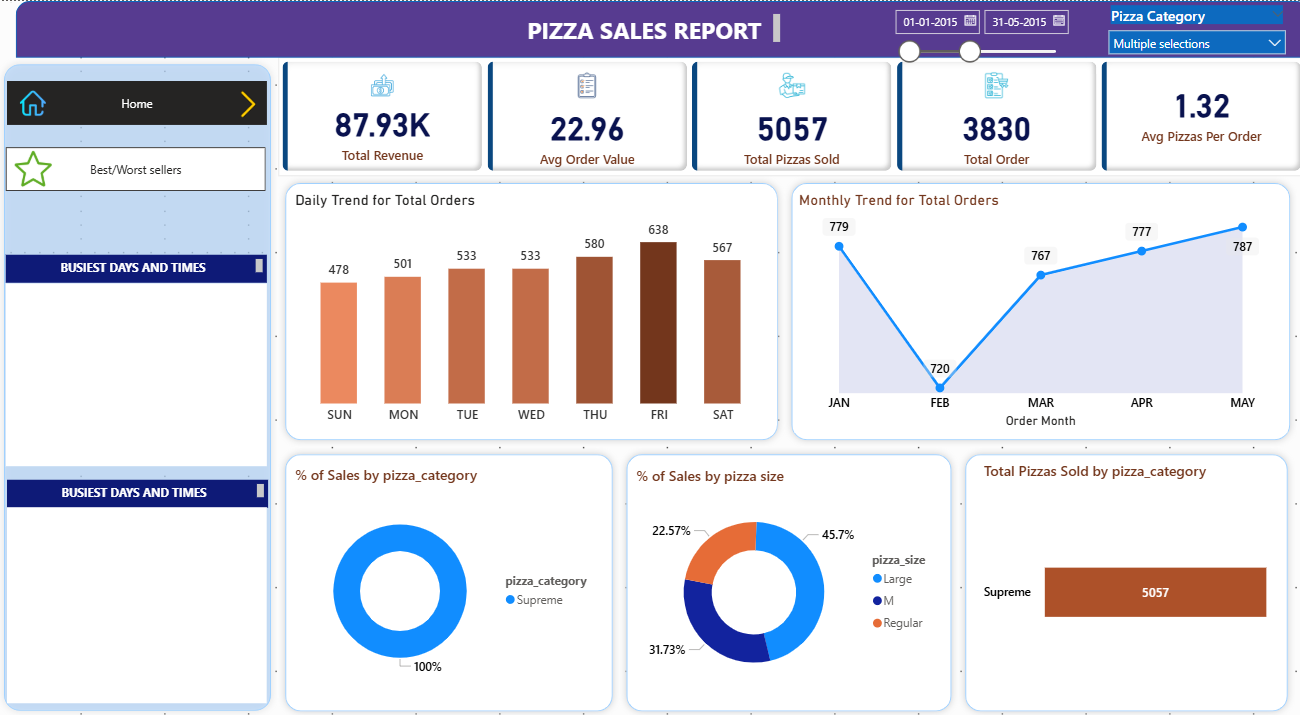

The page's visual inventory and layout, read from the dashboard file:
{"tool":"powerbi","page":{"name":"Home","canvas":[1500,820],"ordinal":0},"visuals":[{"type":"shape","box":[0,64.8,321.1,754.9],"z":0},{"type":"cardVisual","fields":{"Data":["pizza_sales.Total Revenue","pizza_sales.Avg Order Value","pizza_sales.Total Pizzas Sold","pizza_sales.Total Order","pizza_sales.Avg Pizzas Per Order"]},"box":[321.1,64.8,1178.9,135.2],"z":1000},{"type":"shape","box":[21.1,0,1478.9,64.8],"z":2000},{"type":"textbox","box":[601.4,9.9,298.6,43.7],"z":3000},{"type":"shape","box":[321.1,200,578.9,309.9],"z":4000},{"type":"columnChart","title":"Daily Trend for Total Orders","fields":{"Category":["pizza_sales.Order day"],"Y":["pizza_sales.Total Order"]},"box":[335.2,216.9,550.7,276.1],"z":5000},{"type":"shape","box":[900,200,585.9,309.9],"z":6000},{"type":"areaChart","title":"Monthly Trend for Total Orders","fields":{"Category":["pizza_sales.Order Month"],"Y":["pizza_sales.Total Order"]},"box":[911.3,216.9,563.4,276.1],"z":7000},{"type":"shape","box":[321.1,509.9,390.1,309.9],"z":8000},{"type":"shape","box":[1098.6,509.9,384.5,309.9],"z":9000},{"type":"textbox","box":[9.9,290.1,298.6,32.4],"z":10000},{"type":"shape","box":[711.3,509.9,387.3,309.9],"z":11000},{"type":"donutChart","title":" % of Sales by pizza_category","fields":{"Category":["pizza_sales.pizza_category"],"Y":["pizza_sales.Total Revenue"]},"box":[335.2,529.6,359.2,267.6],"z":12000},{"type":"donutChart","title":" % of Sales by pizza size","fields":{"Y":["pizza_sales.Total Revenue"],"Category":["pizza_sales.pizza_size"]},"box":[725.4,531,359.2,267.6],"z":13000},{"type":"funnel","fields":{"Y":["pizza_sales.Total Pizzas Sold"],"Category":["pizza_sales.pizza_category"]},"box":[1122.5,525.4,338,277.5],"z":14000},{"type":"textbox","box":[9.9,322.5,298.6,208.5],"z":15000},{"type":"textbox","box":[11.3,546.5,298.6,32.4],"z":16000},{"type":"textbox","box":[11.3,578.9,297.2,223.9],"z":17000},{"type":"slicer","fields":{"Values":["pizza_sales.pizza_category"]},"box":[1260.6,0,222.5,64.8],"z":18000},{"type":"slicer","fields":{"Values":["pizza_sales.order_date"]},"box":[1014.1,0,216.9,74.6],"z":19000},{"type":"pageNavigator","box":[11.6,91.3,297.1,50.7],"z":20000},{"type":"pageNavigator","box":[10.1,166.7,297.1,50.7],"z":21000},{"type":"image","box":[266.7,97.1,40.6,42],"z":22000},{"type":"image","box":[21.7,97.1,39.1,39.1],"z":23000},{"type":"image","box":[11.6,165.2,59.4,52.2],"z":23001}]}

Visuals, with their boxes on the page's 1500x820 design canvas (x1, y1, x2, y2). These are canvas units, not pixel positions in the 1300x715 screenshot, which may show the page scaled, cropped or inside an application window:
shape: [0,65,321,820]
cardVisual - pizza_sales.Total Revenue x pizza_sales.Avg Order Value: [321,65,1500,200]
shape: [21,0,1500,65]
textbox: [601,10,900,54]
shape: [321,200,900,510]
"Daily Trend for Total Orders" columnChart: [335,217,886,493]
shape: [900,200,1486,510]
"Monthly Trend for Total Orders" areaChart: [911,217,1475,493]
shape: [321,510,711,820]
shape: [1099,510,1483,820]
textbox: [10,290,308,322]
shape: [711,510,1099,820]
" % of Sales by pizza_category" donutChart: [335,530,694,797]
" % of Sales by pizza size" donutChart: [725,531,1085,799]
funnel - pizza_sales.Total Pizzas Sold x pizza_sales.pizza_category: [1122,525,1460,803]
textbox: [10,322,308,531]
textbox: [11,546,310,579]
textbox: [11,579,308,803]
slicer - pizza_sales.pizza_category: [1261,0,1483,65]
slicer - pizza_sales.order_date: [1014,0,1231,75]
pageNavigator: [12,91,309,142]
pageNavigator: [10,167,307,217]
image: [267,97,307,139]
image: [22,97,61,136]
image: [12,165,71,217]
